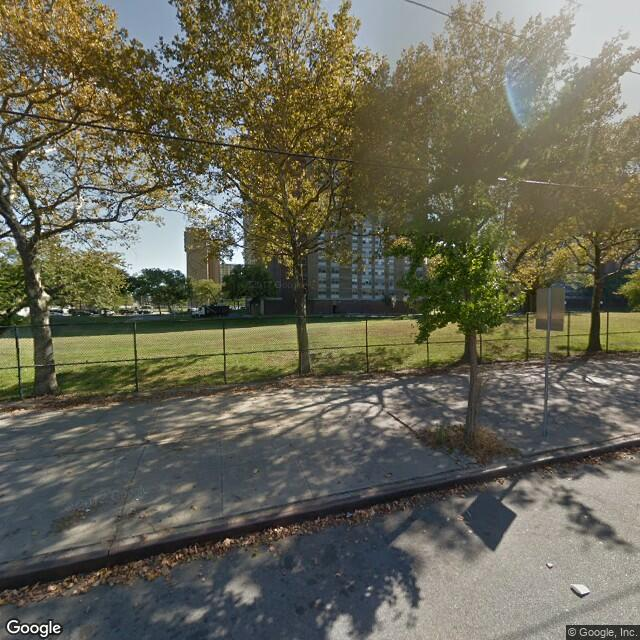litter: (569, 576, 593, 599), (543, 559, 558, 572)
